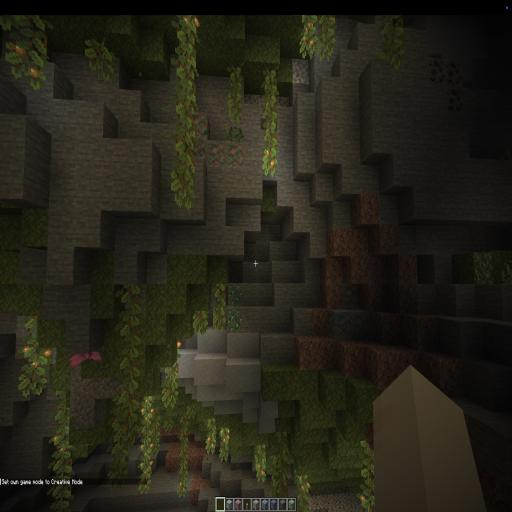emerald ore: (226, 280, 245, 336)
